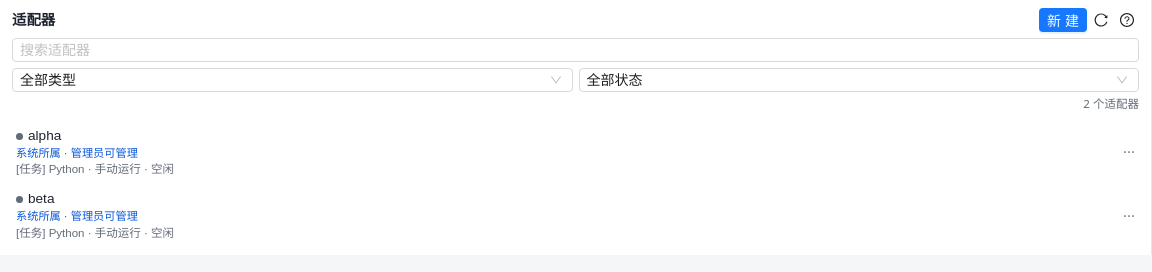
Scenario: opens a three-dot menu with only 设置/复制
Click the 1st button with test id "adapter-item-menu". click: (1129, 151)
box: [1115, 139, 1143, 163]
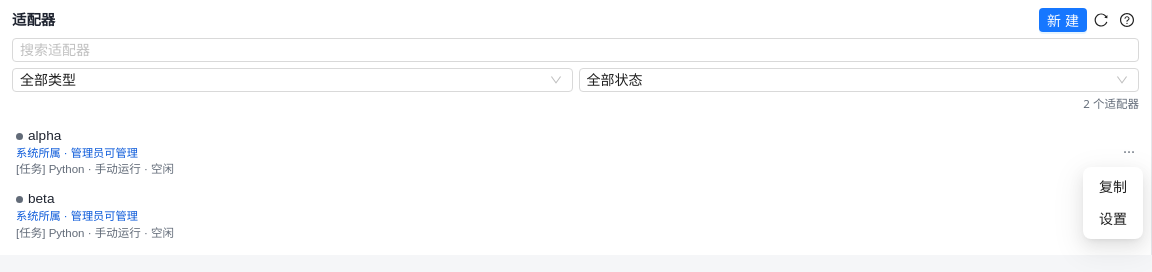
Now the menu item "设置" is shown, box [1099, 210, 1127, 227]
Now the menu item "复制" is shown, box [1099, 178, 1127, 195]
Now the number of menu items is 2, box [1099, 178, 1127, 195]; [1099, 210, 1127, 227]
